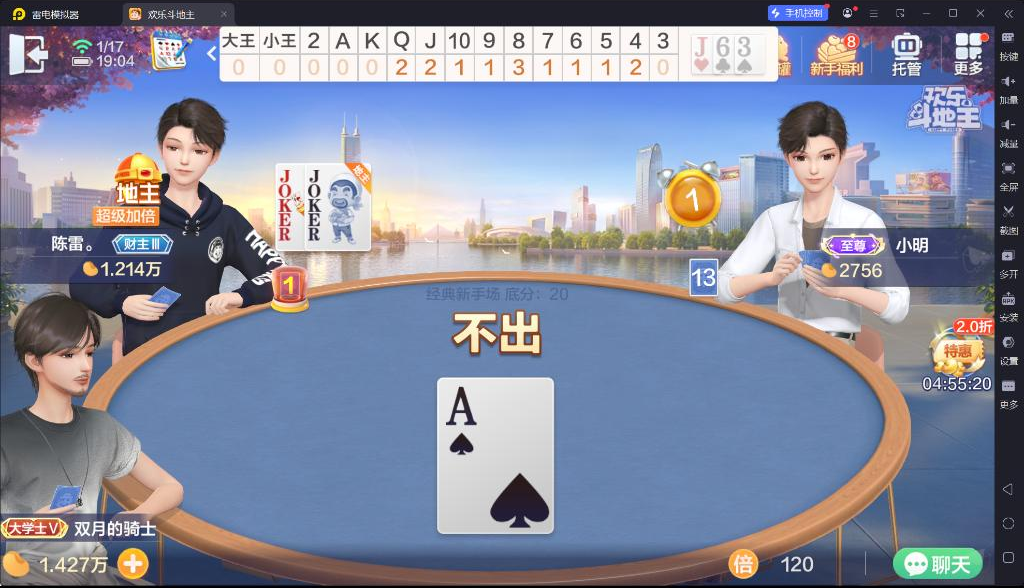A: (444, 384, 480, 428)
J: (692, 35, 709, 57)
JOKER: (276, 167, 294, 219)
joker: (308, 167, 322, 219)
six: (715, 36, 730, 57)
three: (735, 36, 752, 58)
